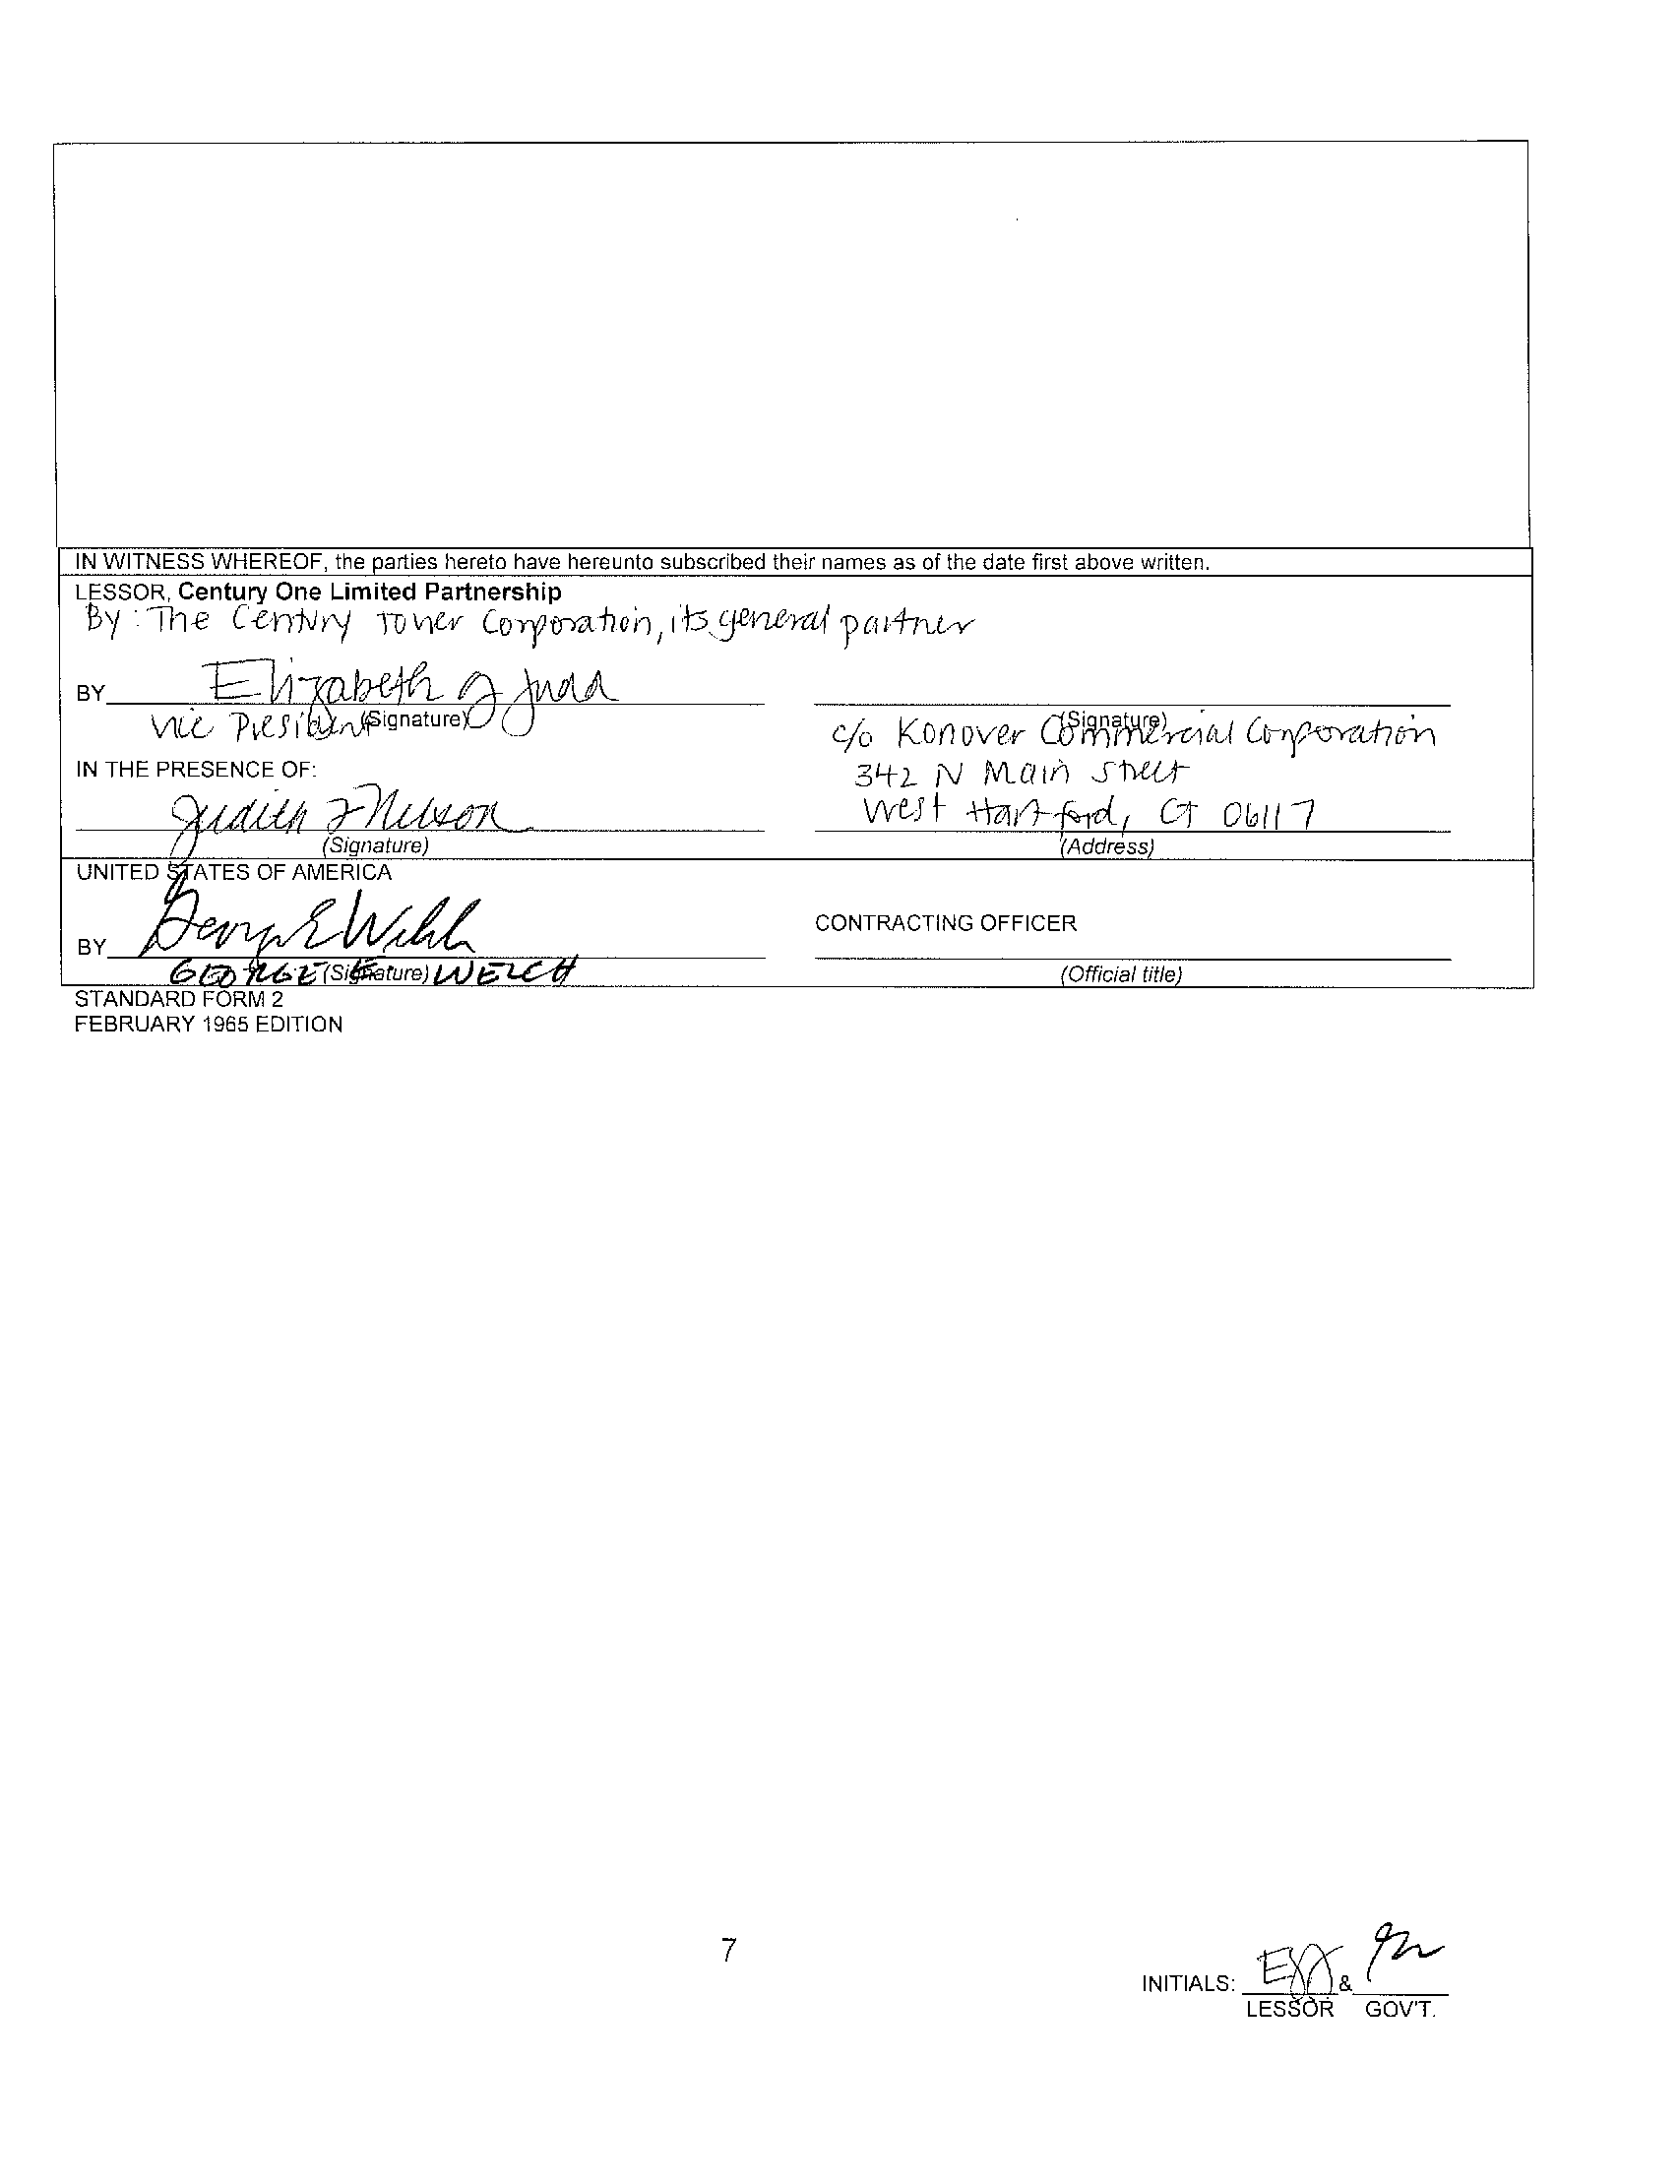handwritten: (78, 593, 988, 706), (824, 711, 1454, 834), (122, 875, 591, 988), (161, 776, 549, 843)
